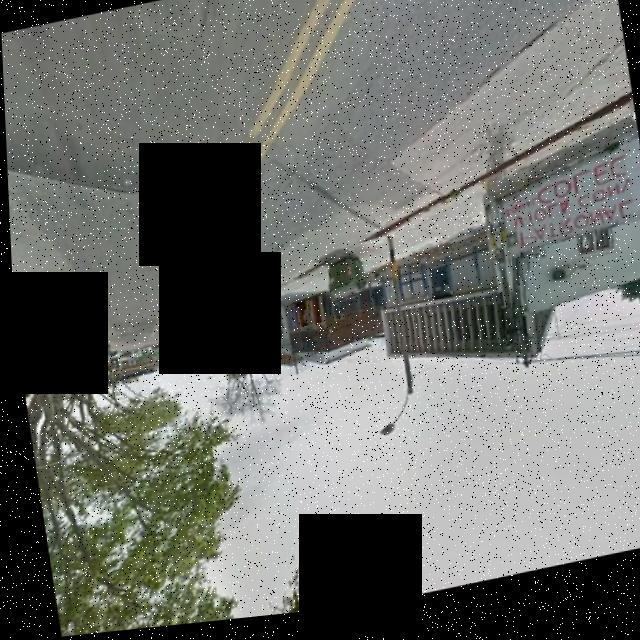bin: (314, 250, 373, 314)
